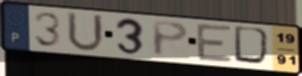3: (115, 16, 150, 57), (32, 11, 63, 48)
D: (232, 25, 274, 68)
E: (195, 22, 236, 65)
P: (149, 19, 191, 60)
U: (65, 10, 107, 54)
